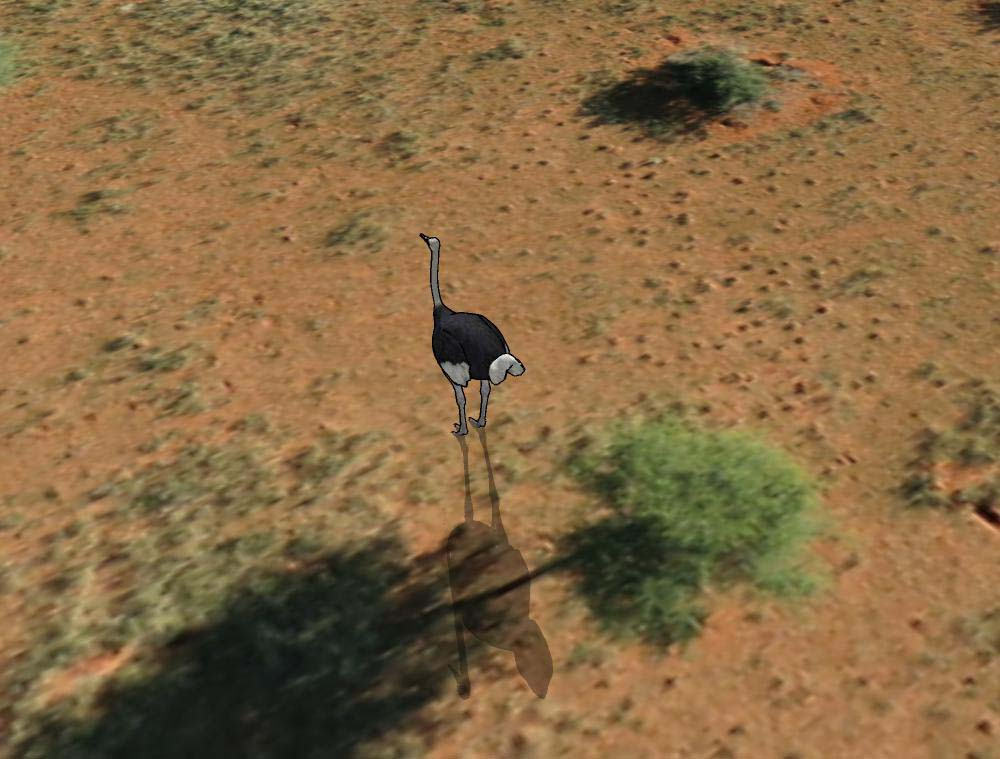springbok: (412, 228, 530, 438)
